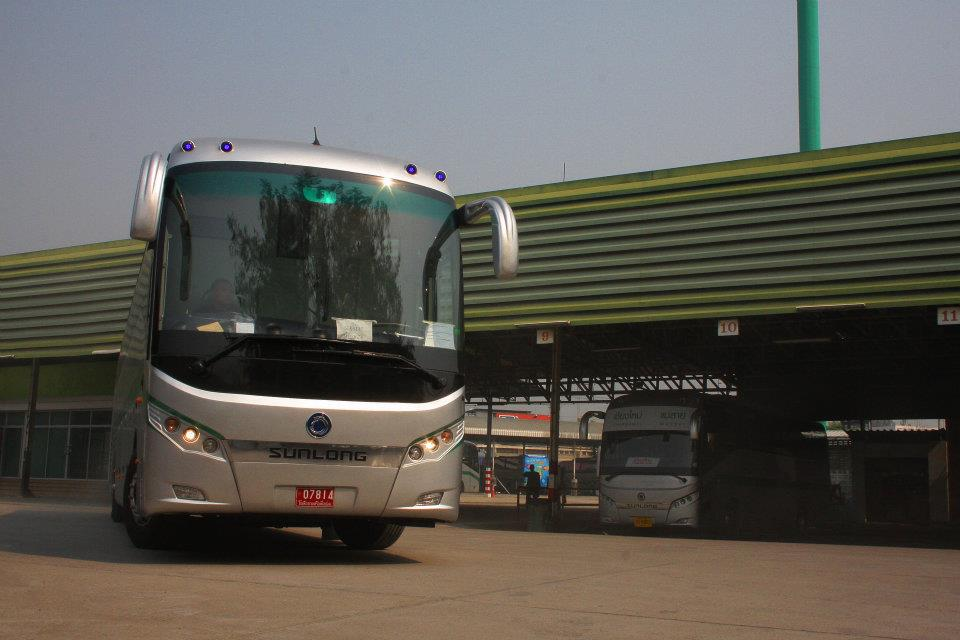bus: (108, 135, 464, 552), (594, 390, 835, 535)
